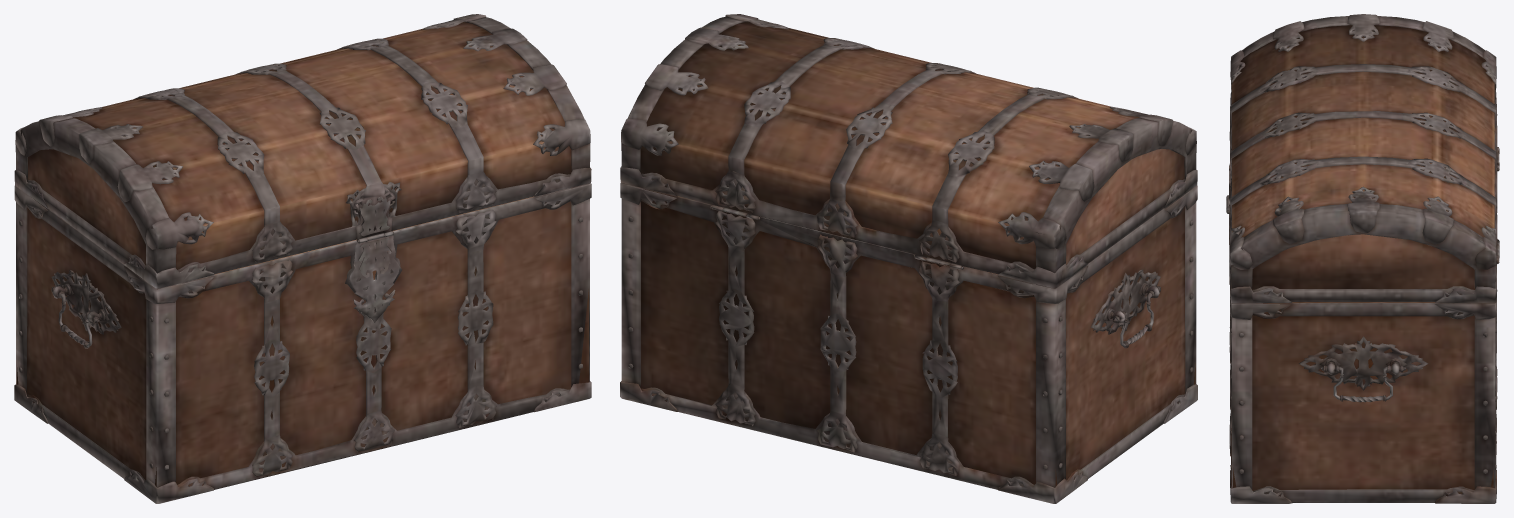
The model's file is polyhaven-treasure-chest.glb.
3 renders of one model, left to right at view 1: azimuth 30°, elevation 25°; view 2: azimuth 150°, elevation 25°; view 3: azimuth 270°, elevation 25°, orthographic. The views are drawn at different scales.
Visible parts, largest first — view 1: treasure_chest_bottom; view 2: treasure_chest_bottom; view 3: treasure_chest_bottom.
Part boxes in pixels (box(x1,y1,x2,y2)): treasure_chest_bottom: box(14, 14, 591, 503); treasure_chest_bottom: box(620, 14, 1197, 503); treasure_chest_bottom: box(1226, 14, 1499, 503).
Bounding box in the file's own units: 0.959 × 0.6186 × 0.5223.
1 material, 1 textured.
